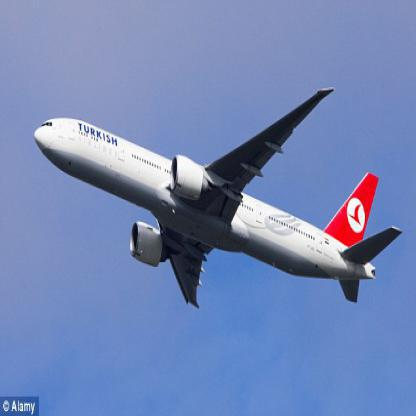CIV_Plane: (26, 81, 402, 323)
